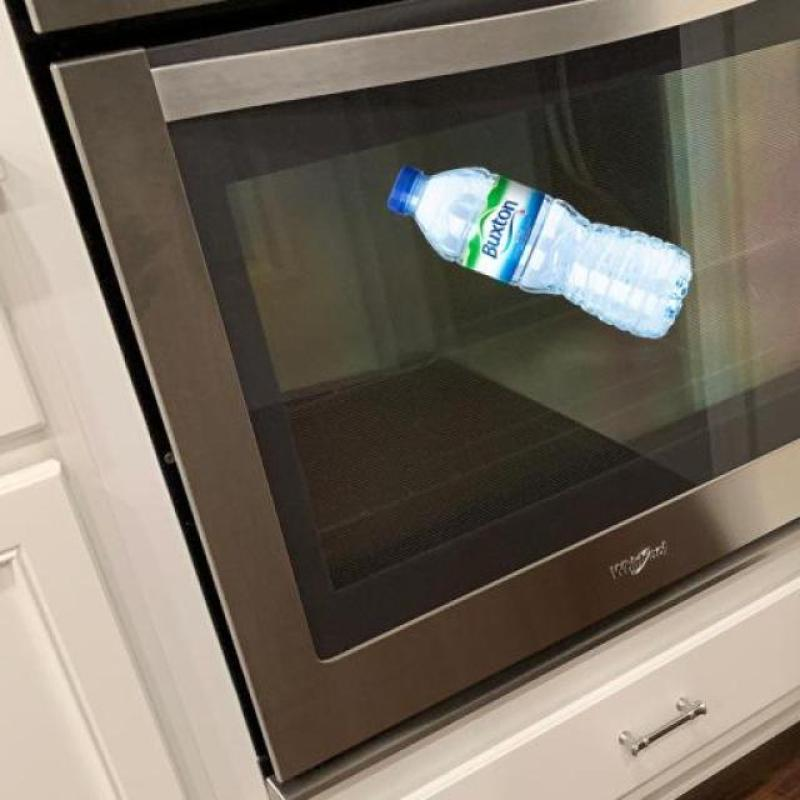botella: (388, 163, 693, 339)
